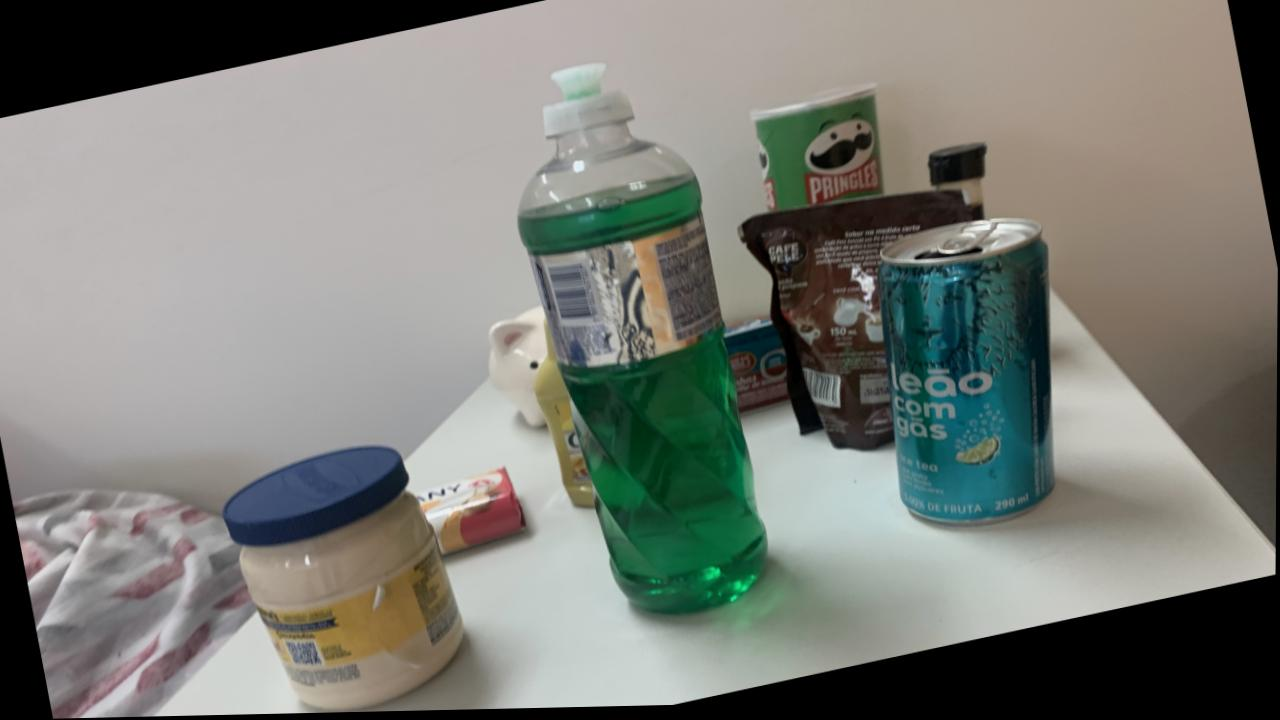Coffee-Pantry_Items: (739, 193, 972, 454)
Detergent-Cleanup_Items: (517, 66, 768, 617)
English_Sauce-Pantry_Items: (927, 146, 987, 224)
Mayonnaise-Pantry_Items: (223, 447, 465, 711)
Mustard-Pantry_Items: (533, 325, 596, 510)
Pig_Safe-Miscellaneous: (488, 309, 548, 429)
Pringles-Snacks: (750, 86, 884, 214)
Soap-Cleanup_Items: (416, 469, 526, 555)
Tea-Drinks: (877, 221, 1055, 528)
Tuna_Can-Pantry_Items: (723, 320, 789, 416)
